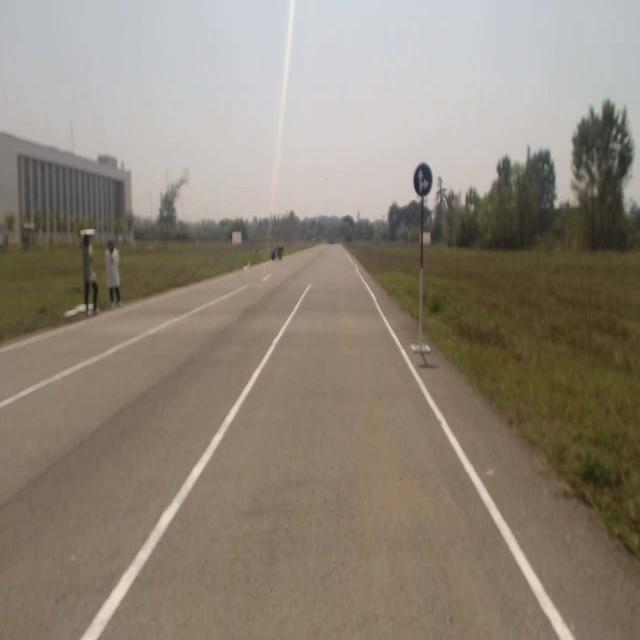ilerisag: (413, 162, 432, 195)
